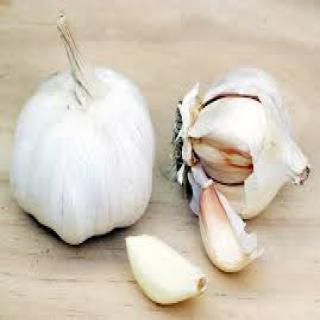Bawang Putih: (9, 9, 169, 266), (163, 49, 316, 287), (106, 227, 225, 314)
